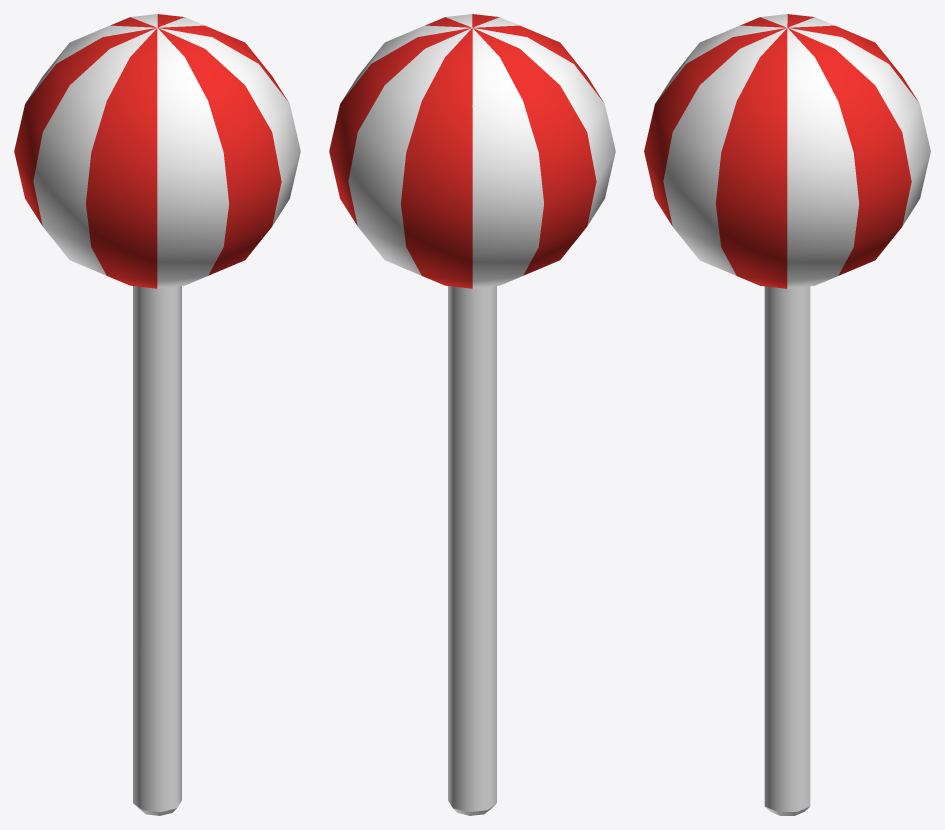
Rendered from Candy_24.fbx.
3 views of the same model, side by side, from view 1: azimuth 30°, elevation 25°; view 2: azimuth 150°, elevation 25°; view 3: azimuth 270°, elevation 25° (orthographic).
Parts seen in each view (by area): view 1: Candy_24; view 2: Candy_24; view 3: Candy_24.
Part boxes in pixels (x1,y1,x2,y2): Candy_24: (14, 14, 300, 815); Candy_24: (329, 14, 615, 815); Candy_24: (644, 14, 930, 815).
Bounding box in the file's own units: 0.8726 × 2.62 × 0.8726.
